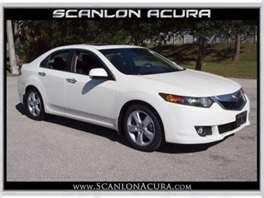Car: (12, 36, 256, 158)
